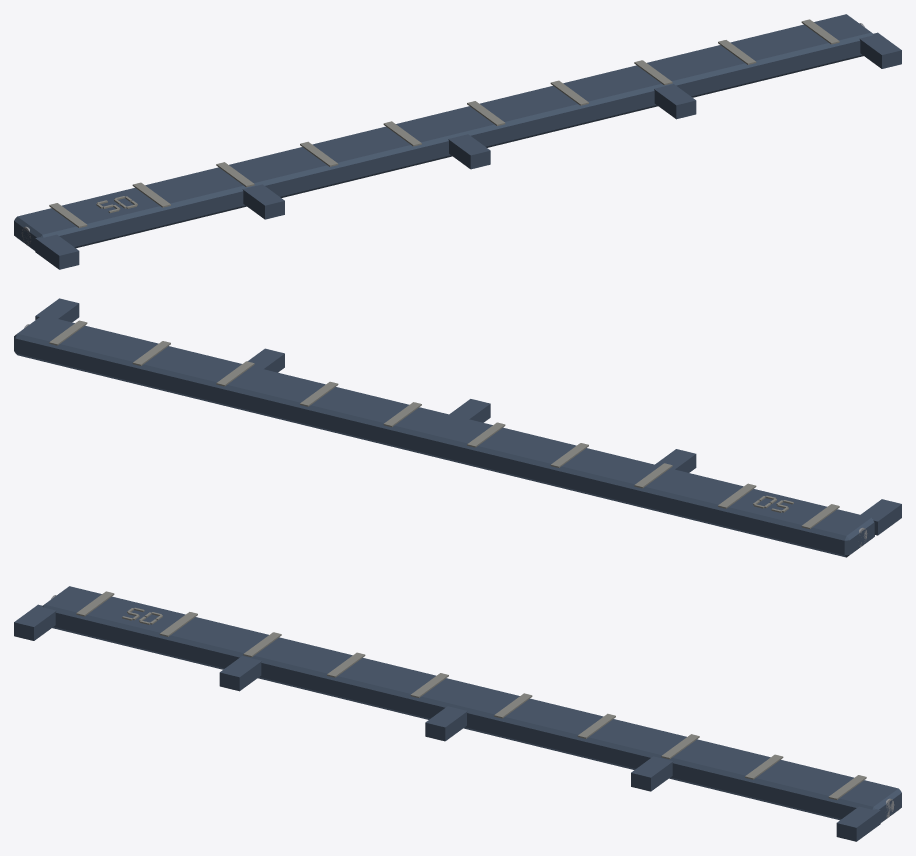
The model's file is rs50s_manifold.obj.
The picture shows the model from 3 angles, top to bottom: view 1: azimuth 30°, elevation 25°; view 2: azimuth 150°, elevation 25°; view 3: azimuth 330°, elevation 25°; orthographic projection.
Visible parts, largest first — view 1: rs50s_manifold; view 2: rs50s_manifold; view 3: rs50s_manifold.
Part boxes in pixels (<box>): rs50s_manifold: <box>14,14,901,269</box>; rs50s_manifold: <box>14,298,901,557</box>; rs50s_manifold: <box>14,586,901,841</box>.
Bounding box in the file's own units: 5.04 × 0.132 × 0.53.
